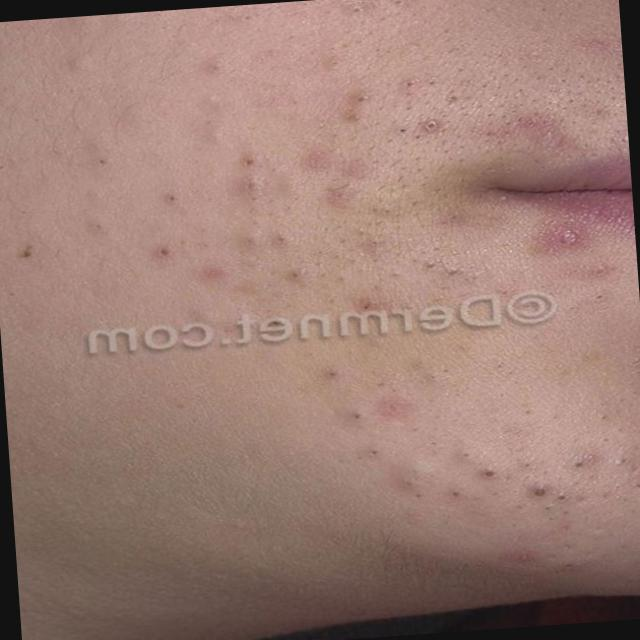blackhead: (346, 110, 361, 124), (612, 454, 628, 466), (445, 267, 460, 277), (482, 468, 497, 478), (426, 118, 438, 130), (532, 486, 544, 498), (330, 58, 341, 71), (20, 247, 31, 260), (404, 78, 414, 90), (572, 460, 584, 470), (594, 265, 604, 276), (426, 260, 437, 270), (278, 233, 288, 244), (404, 477, 414, 488), (244, 156, 253, 168), (160, 246, 170, 256), (369, 446, 379, 456), (290, 268, 298, 280), (446, 94, 456, 103), (596, 292, 605, 302), (242, 12, 251, 22), (370, 238, 379, 248), (557, 493, 566, 502), (411, 254, 419, 264), (326, 369, 336, 377), (351, 411, 361, 419), (452, 488, 460, 498), (96, 156, 106, 164), (94, 220, 102, 230), (398, 126, 407, 134), (356, 95, 364, 104), (463, 450, 471, 459), (412, 492, 424, 498), (243, 236, 253, 243), (370, 206, 380, 213), (412, 133, 420, 141), (410, 198, 418, 206), (419, 248, 427, 256), (358, 228, 366, 236), (351, 6, 360, 13), (544, 502, 550, 512), (212, 62, 218, 72), (523, 462, 531, 469), (599, 413, 606, 421), (428, 77, 434, 86), (168, 193, 174, 202), (394, 0, 403, 6), (384, 208, 391, 215), (434, 244, 441, 251), (562, 508, 570, 514), (391, 271, 398, 277), (548, 515, 554, 522), (602, 436, 608, 442), (524, 409, 530, 414), (636, 481, 640, 488), (158, 10, 164, 14)
